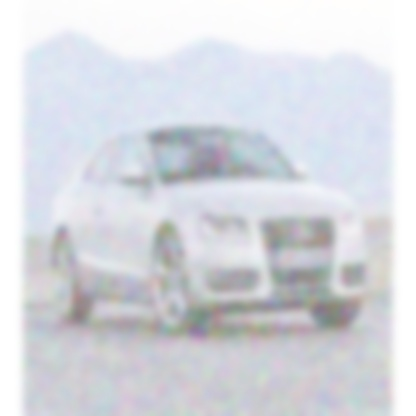Vehicle: (50, 113, 367, 336)
